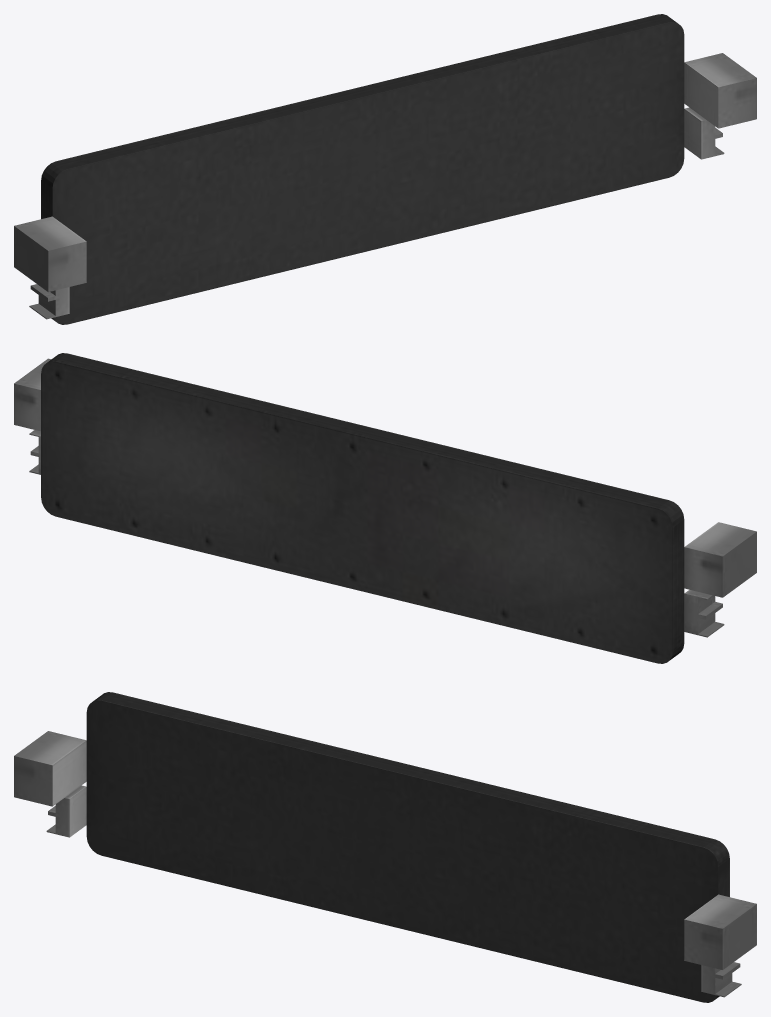
File: ME1MilieuPlateforme.fbx
The picture shows the model from 3 angles, top to bottom: view 1: azimuth 30°, elevation 25°; view 2: azimuth 150°, elevation 25°; view 3: azimuth 330°, elevation 25°; orthographic projection.
Parts seen in each view (by area): view 1: ShapeIndexedFaceSet; view 2: ShapeIndexedFaceSet; view 3: ShapeIndexedFaceSet.
Part boxes in pixels (box(x1,y1,x2,y2)): ShapeIndexedFaceSet: box(14, 14, 756, 324); ShapeIndexedFaceSet: box(14, 353, 756, 663); ShapeIndexedFaceSet: box(14, 692, 756, 1002).
Size of the model in its own units: 7.18 by 1.5 by 0.8.
